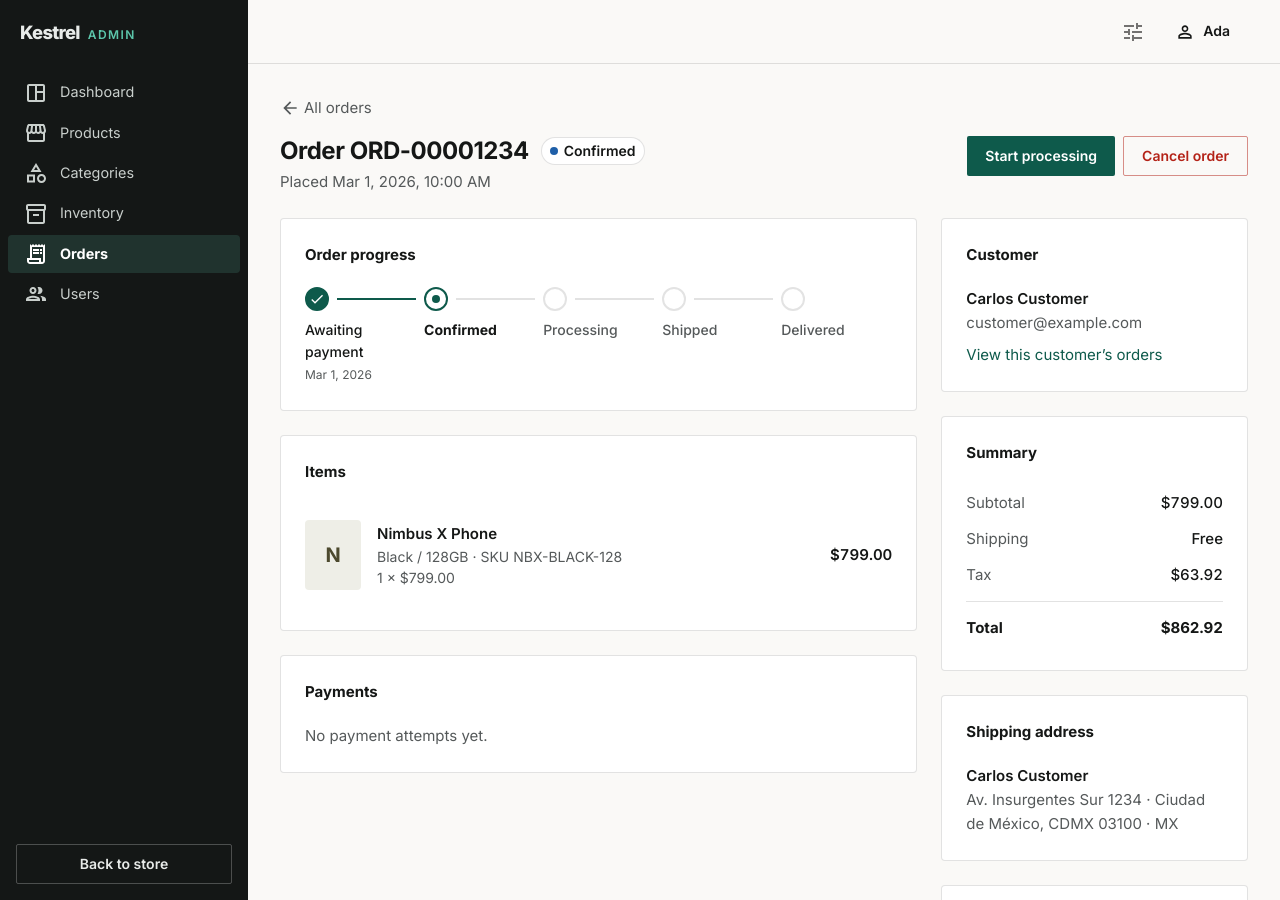
admin orders › offers only the transitions the API allows and applies one with a note
Step 1. Click the button "Start processing" → (1041, 156), box [967, 136, 1115, 176]
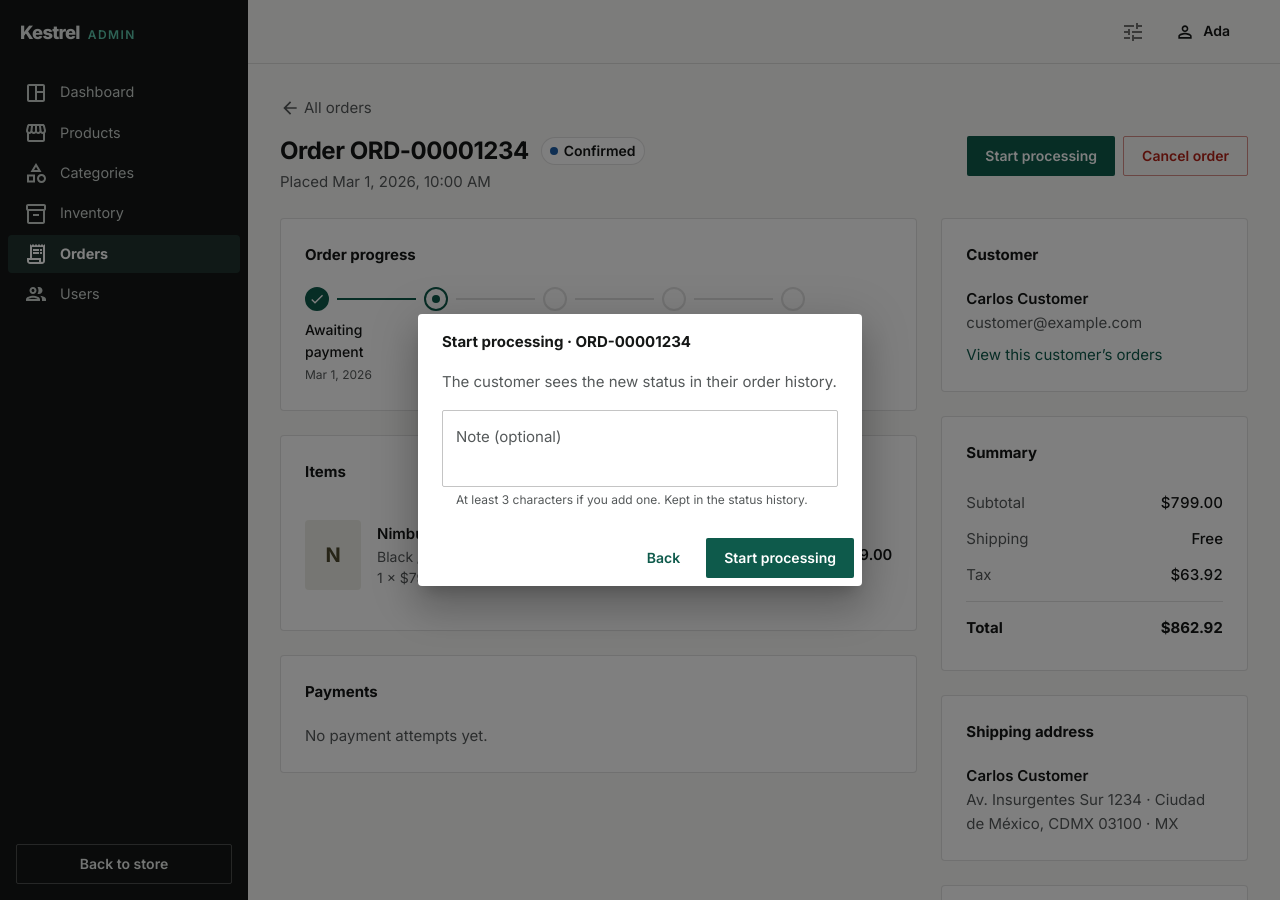
Step 2. Type "Picked" into the text box labelled "Note (optional)" → (640, 448), box [456, 426, 824, 470]
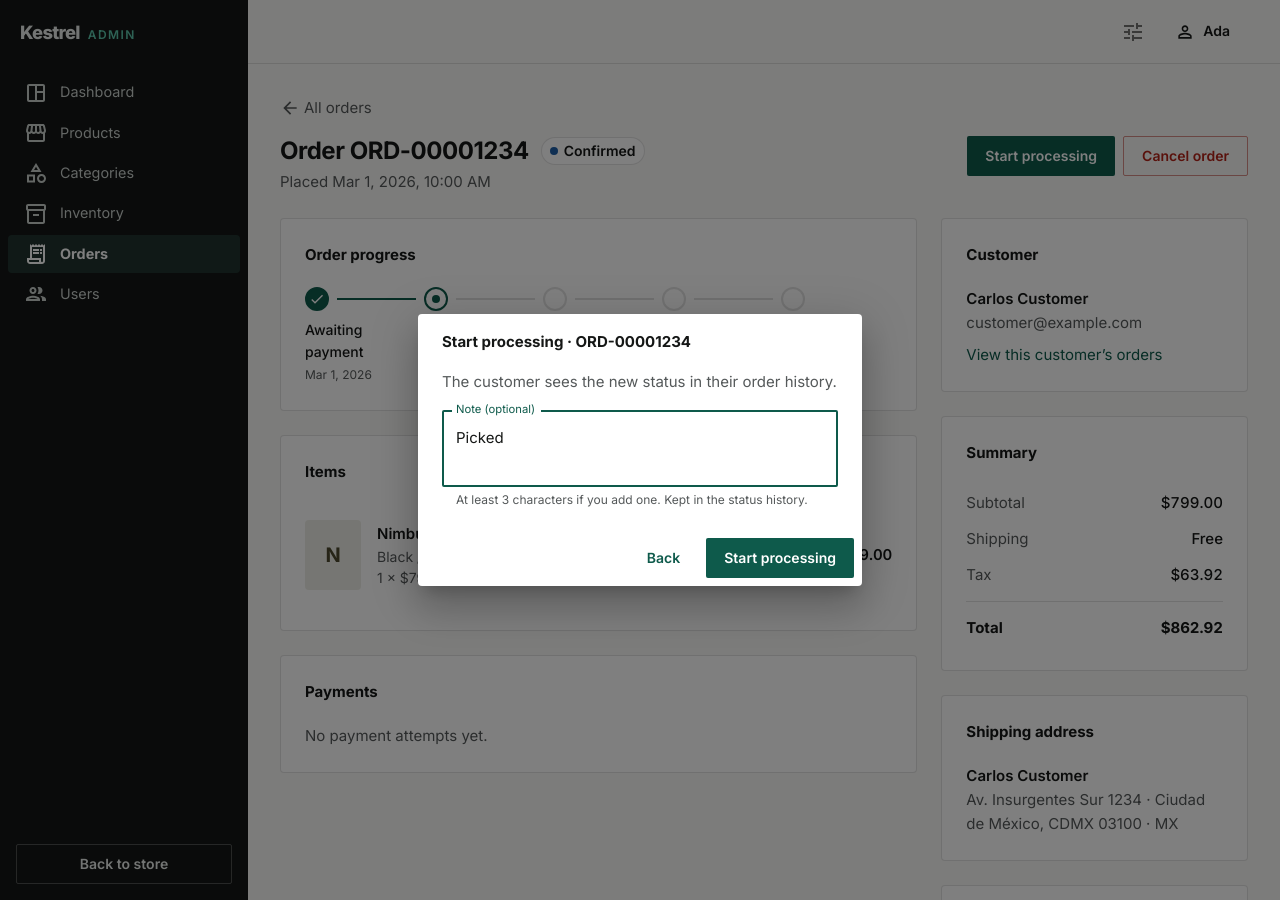
Step 3. Click the button "Start processing" → (780, 558), box [706, 538, 854, 578]
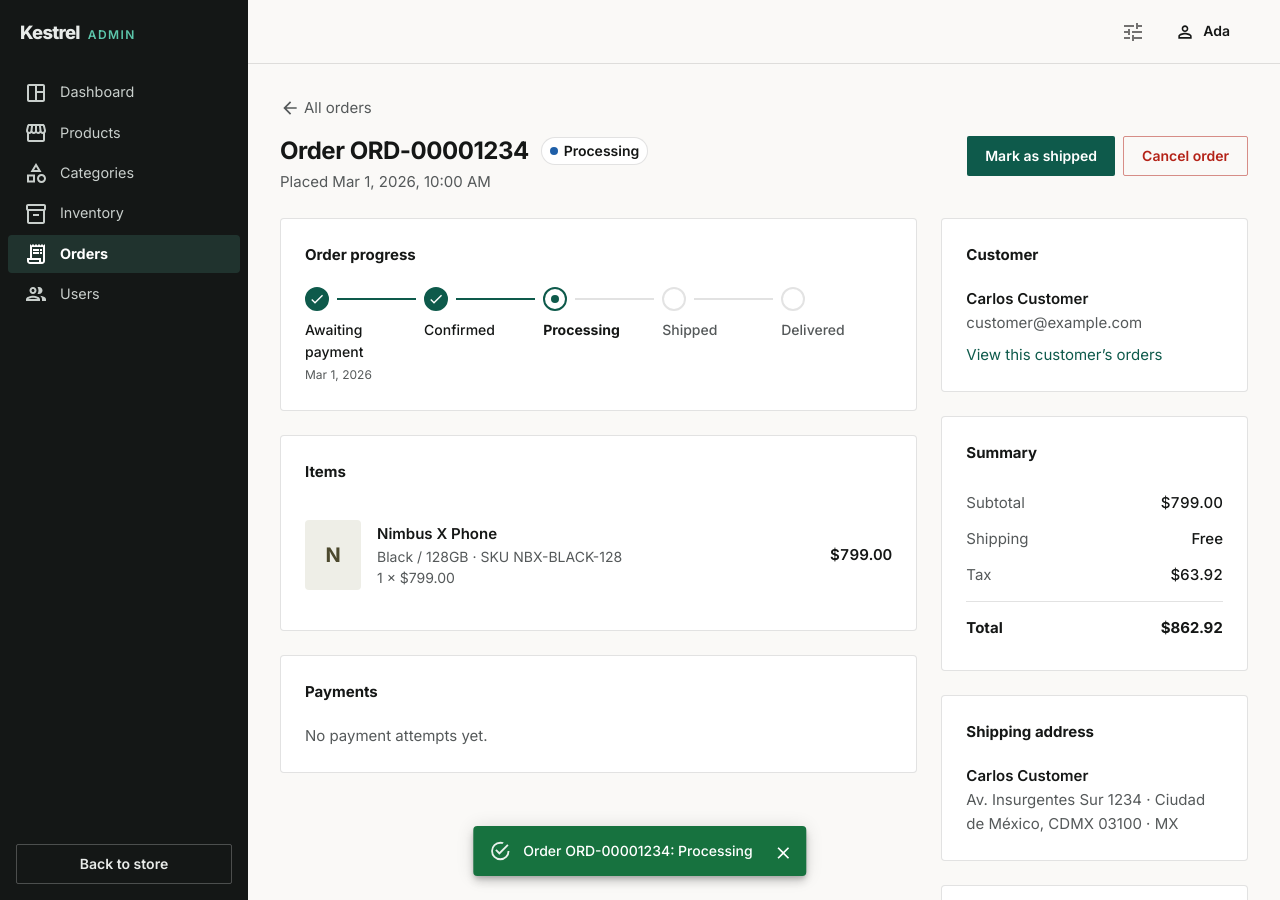
Expected: the text "Order ORD-00001234: Processing" is shown, [523, 842, 753, 859]
Expected: the dialog is gone
Expected: the button "Mark as shipped" is shown, [967, 136, 1115, 176]
